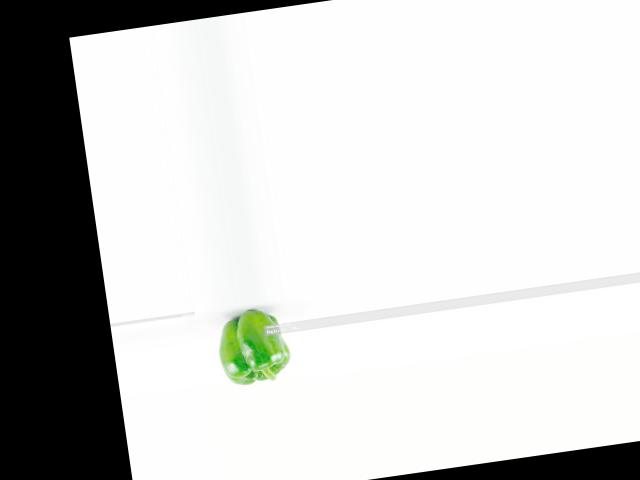bell_pepper: (210, 302, 293, 392)
